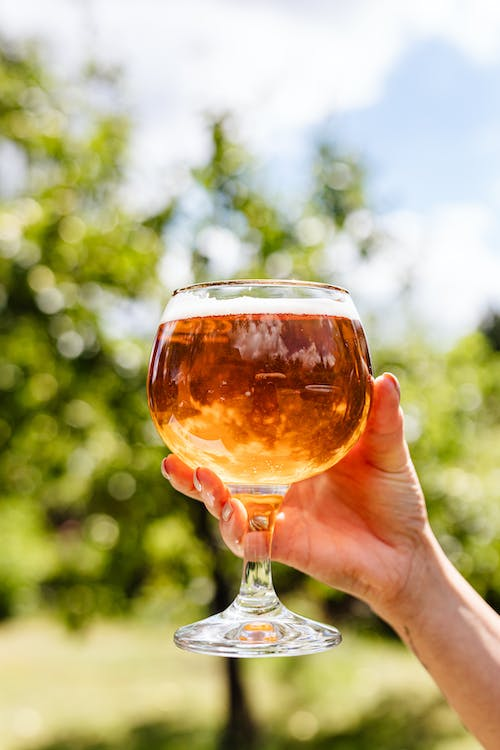alcohol: (146, 277, 374, 656)
